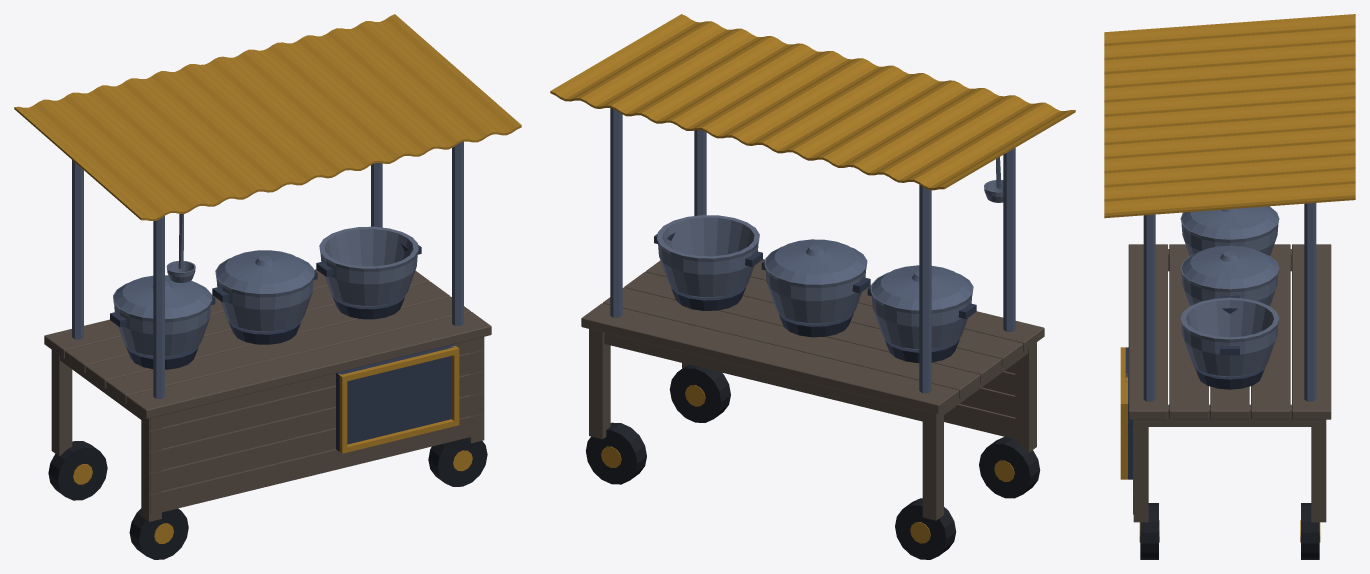
File: bw_targ_noodle_cart.glb
The picture shows the model from 3 angles, left to right: view 1: azimuth 30°, elevation 25°; view 2: azimuth 150°, elevation 25°; view 3: azimuth 270°, elevation 25°; orthographic projection. The views are drawn at different scales.
Visible parts, largest first — view 1: apron.003, apron.001, apron.004, apron, apron.005, apron.002; view 2: apron.003, apron.001, apron.004, apron, apron.002, apron.005; view 3: apron.003, apron.001, apron.004, apron, apron.002, apron.005.
Boxes of the visible parts, box(x1,y1,x2,y2) form: apron.003: box(14, 14, 521, 543); apron.001: box(44, 269, 491, 521); apron.004: box(72, 141, 463, 398); apron: box(113, 226, 418, 356); apron.005: box(110, 243, 455, 451); apron.002: box(48, 438, 487, 559); apron.003: box(550, 14, 1075, 543); apron.001: box(581, 259, 1044, 520); apron.004: box(610, 108, 1015, 393); apron: box(657, 180, 1003, 349); apron.002: box(586, 365, 1040, 559); apron.005: box(654, 232, 976, 363); apron.003: box(1104, 14, 1355, 542); apron.001: box(1128, 244, 1331, 522); apron.004: box(1143, 203, 1316, 401); apron: box(1180, 206, 1279, 377); apron.002: box(1140, 503, 1319, 559); apron.005: box(1125, 246, 1265, 479).
Size of the model in its own units: 2.6 by 2.5 by 1.5.
